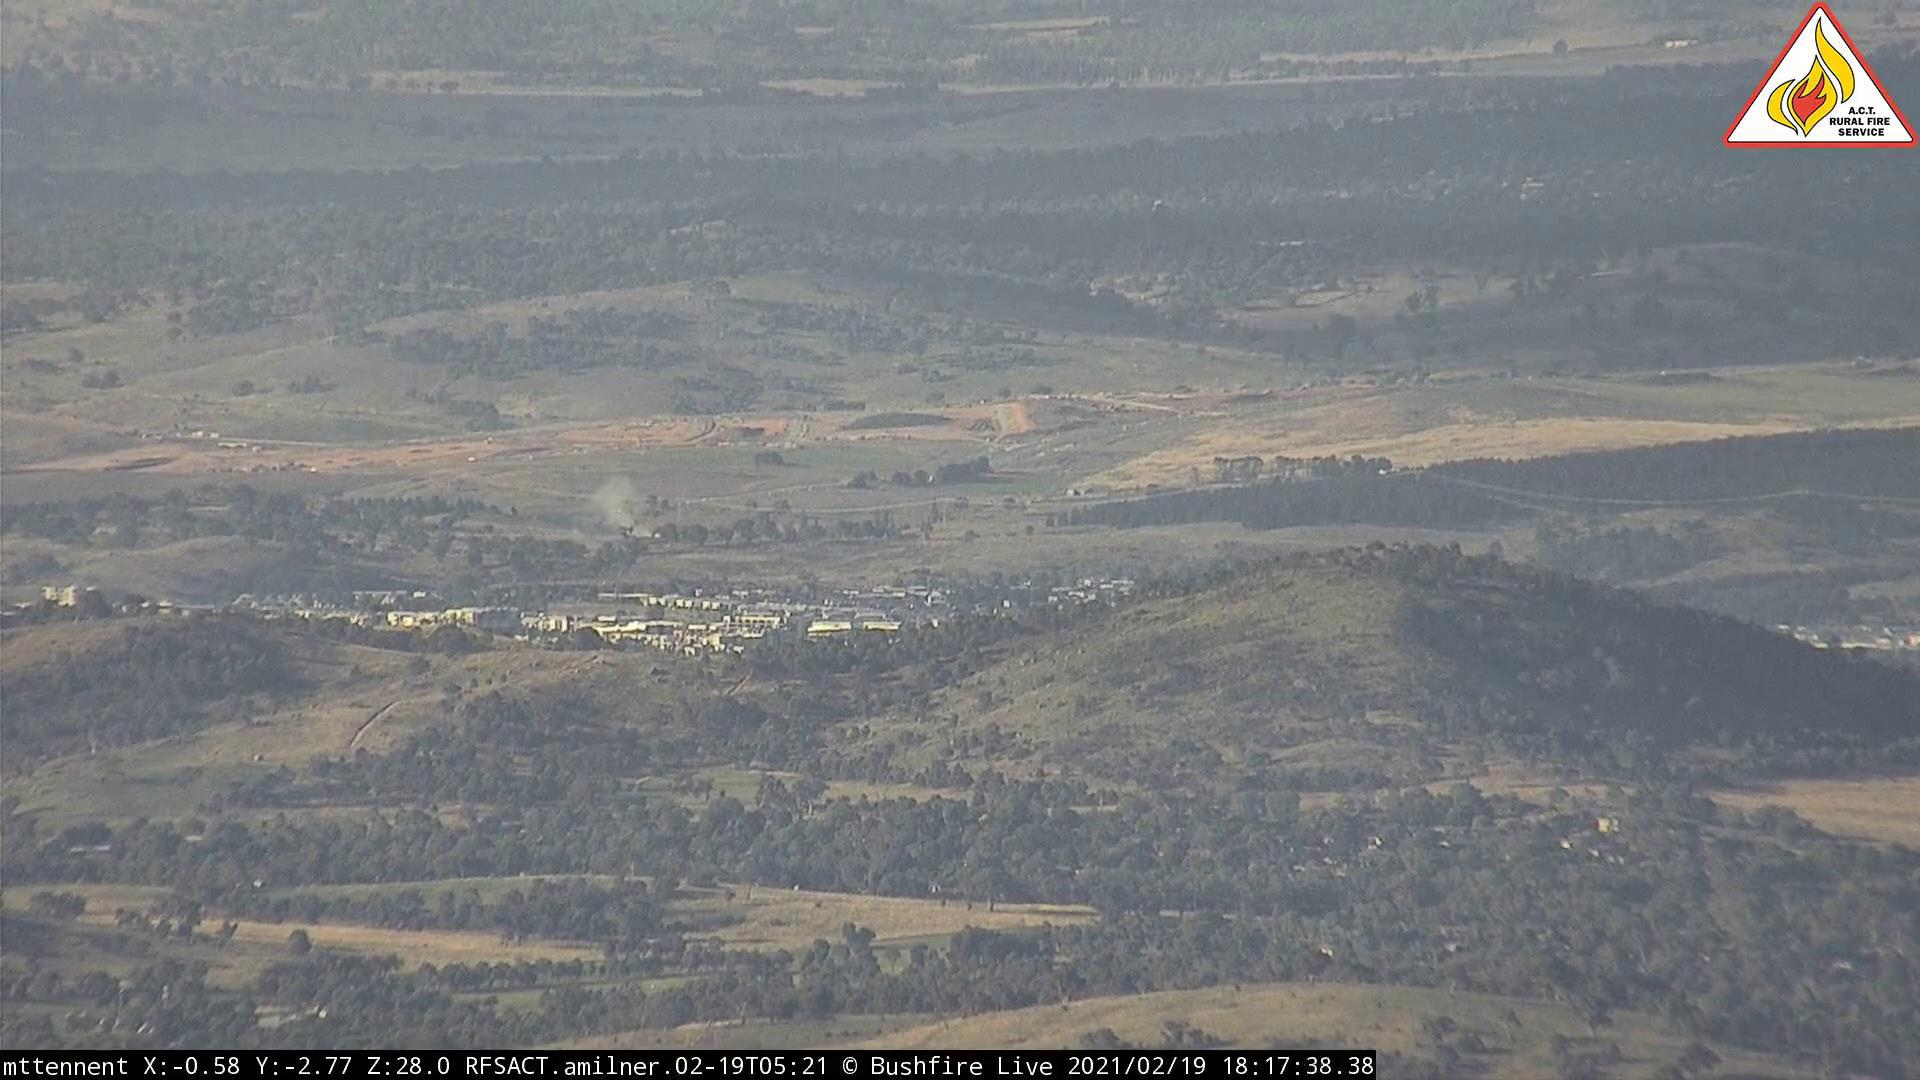Smoke: (603, 504, 669, 550)
